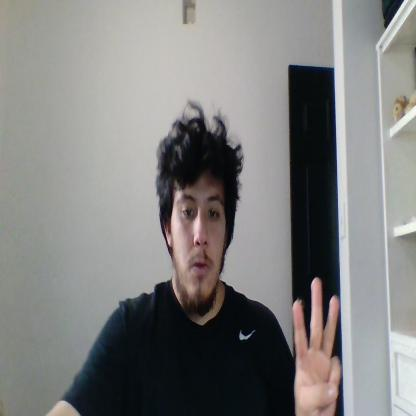W: (293, 276, 341, 415)
